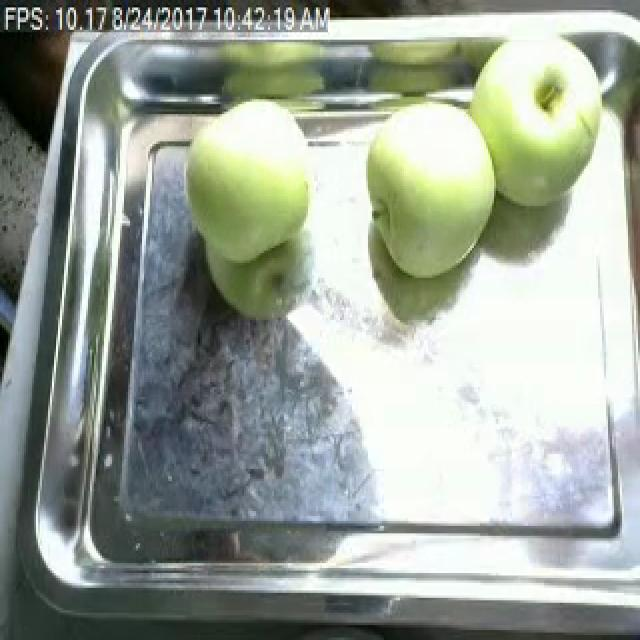50-_ripeness: (347, 90, 500, 301), (469, 5, 614, 227), (182, 78, 316, 281)
